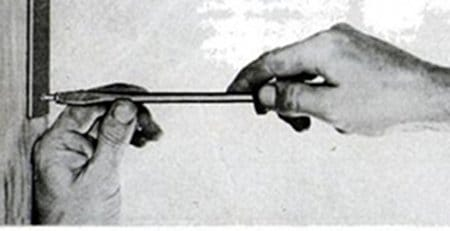screwdriver: (41, 86, 349, 115)
